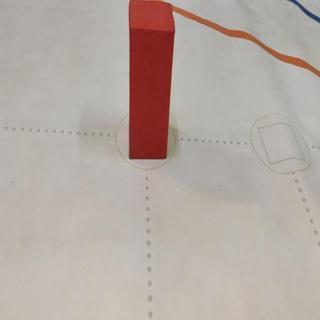redbox: (128, 1, 176, 161)
